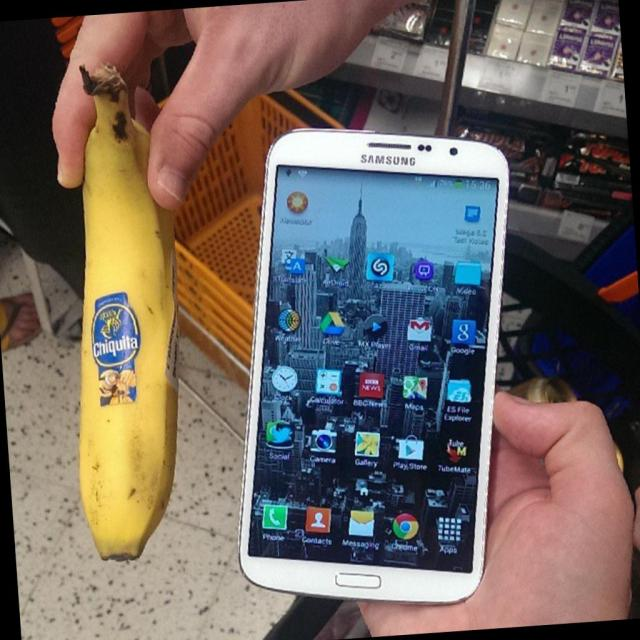handphone: (247, 131, 497, 600)
